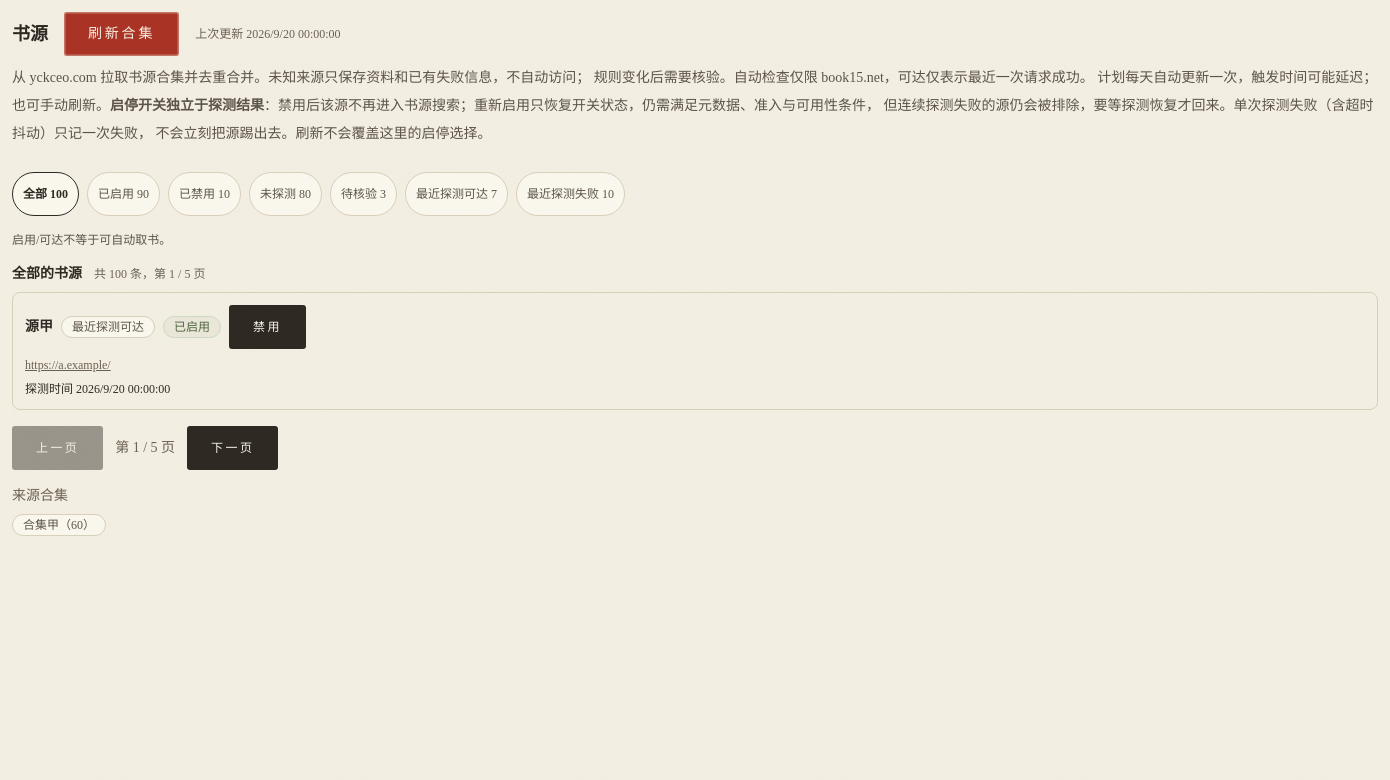
it: 场景3(行为保留):启停成功后重载可见实际状态 › toggle 成功(服务端写入已发生)后,重载列表显示已禁用——保留既有语义
Click the button "禁用" at (267, 327), box [229, 305, 306, 349]
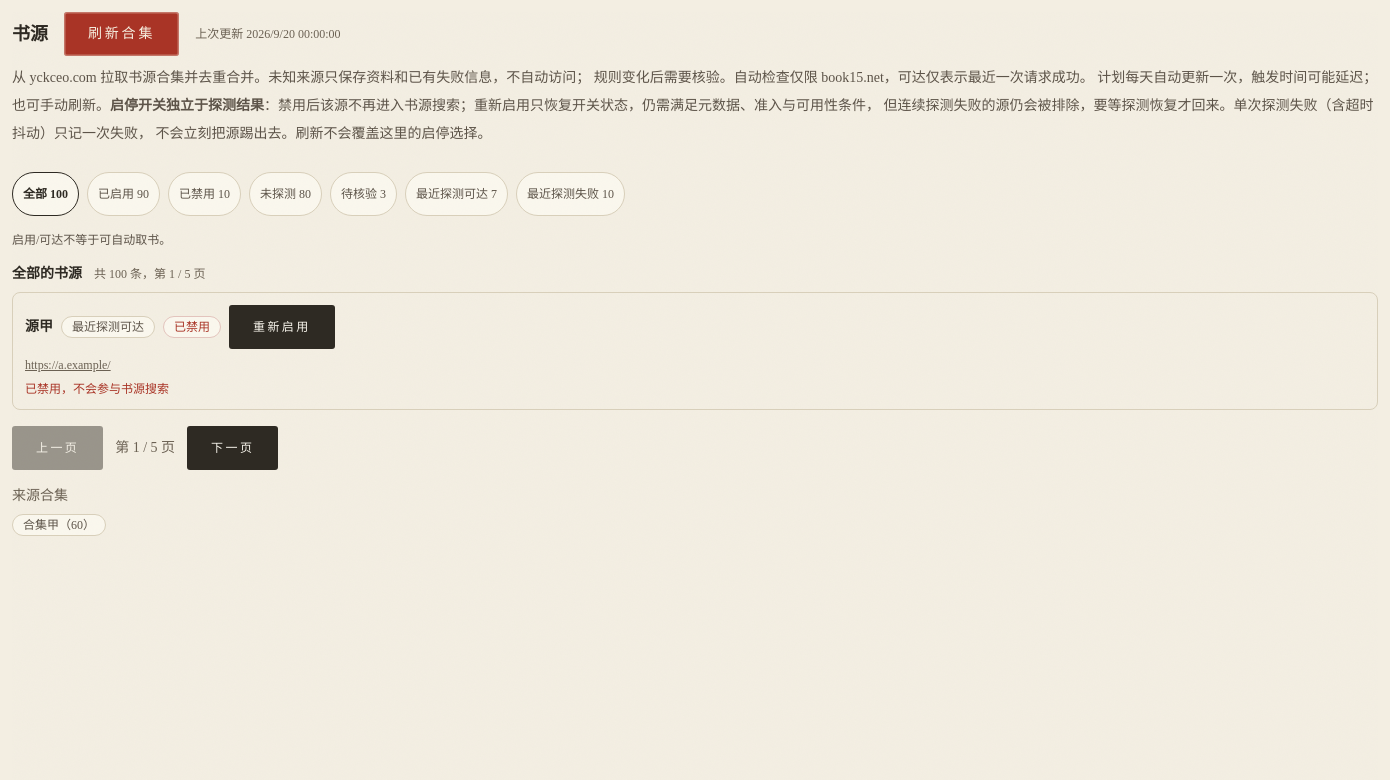
Expected: the text "已禁用" is shown, [163, 316, 221, 338]
